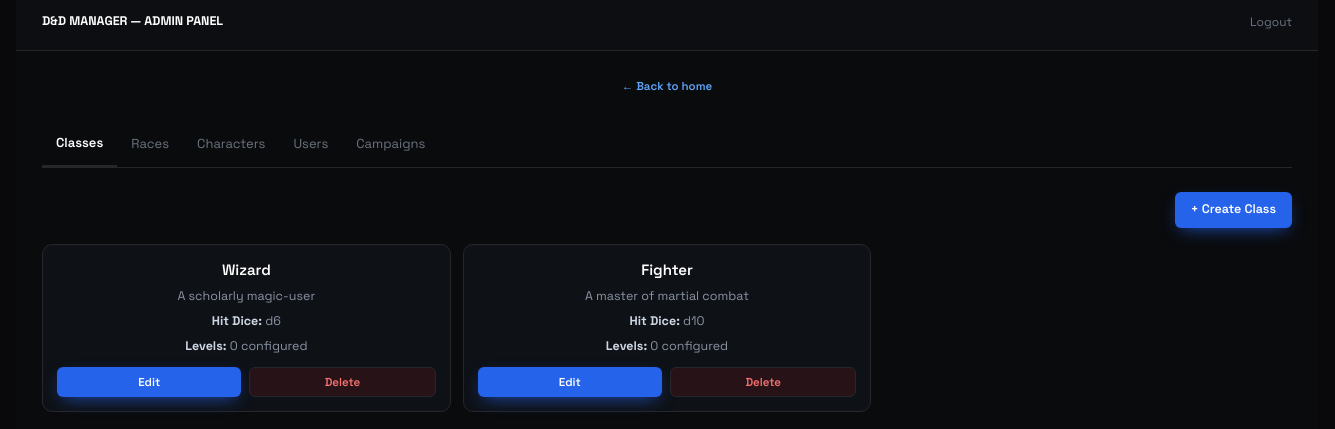
it: AdminPanel — Tabs › clicking Campaigns tab loads and shows campaigns
Click the tab "Campaigns" at (391,144), box [342,122,439,166]
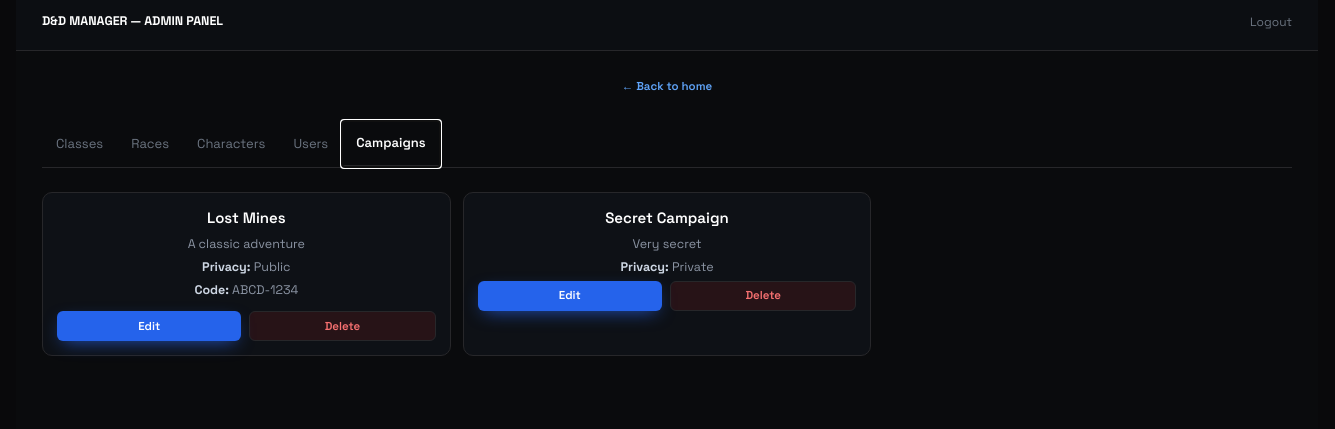
Now the heading "Lost Mines" is shown, box [207,208,286,226]
Now the heading "Secret Campaign" is shown, box [605,208,729,226]
